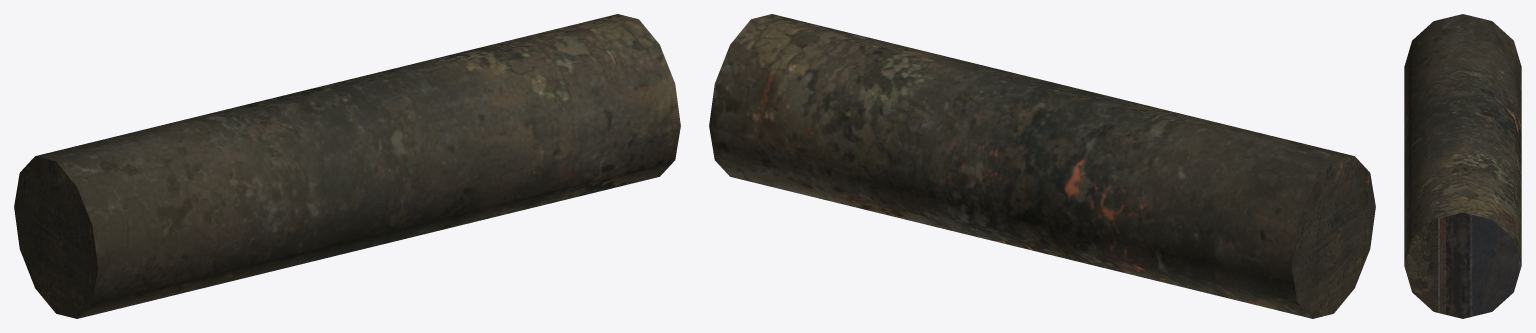
Rendered from SC_Pipe_Big_A.fbx.
The picture shows the model from 3 angles, left to right: view 1: azimuth 30°, elevation 25°; view 2: azimuth 150°, elevation 25°; view 3: azimuth 270°, elevation 25°; orthographic projection. The views are drawn at different scales.
Visible parts, largest first — view 1: SC_Pipe_Big_A; view 2: SC_Pipe_Big_A; view 3: SC_Pipe_Big_A.
Boxes of the visible parts, x1,y1,x2,y2 form: SC_Pipe_Big_A: (14,14,680,318); SC_Pipe_Big_A: (709,14,1375,318); SC_Pipe_Big_A: (1404,14,1521,318).
Size of the model in its own units: 200 by 50 by 50.
